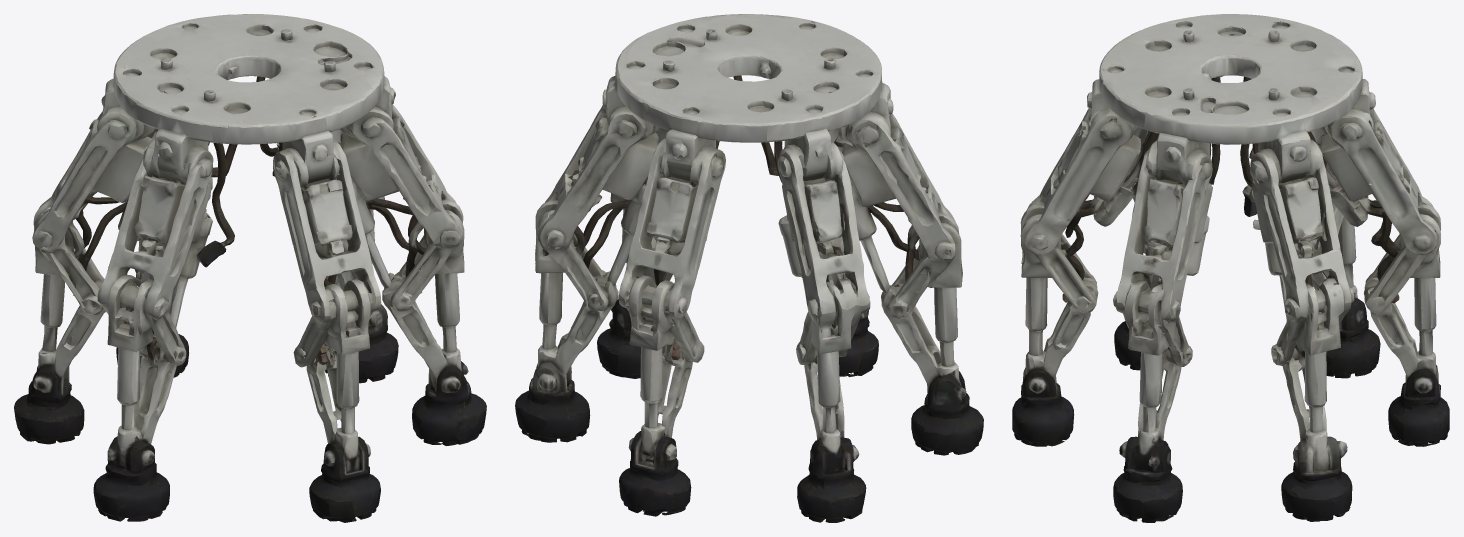
3 views of the same model, side by side, from view 1: azimuth 30°, elevation 25°; view 2: azimuth 150°, elevation 25°; view 3: azimuth 270°, elevation 25° (orthographic).
Parts seen in each view (by area): view 1: geometry_0; view 2: geometry_0; view 3: geometry_0.
Part boxes in pixels (<box>): geometry_0: <box>14,14,486,522</box>; geometry_0: <box>515,14,983,522</box>; geometry_0: <box>1012,14,1449,522</box>.
Size of the model in its own units: 0.35 by 0.3308 by 0.3519.
1 material, 1 textured.
